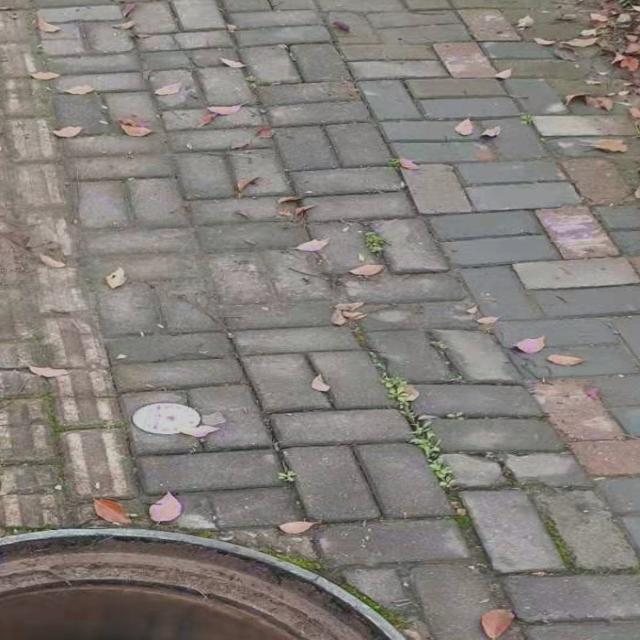lose: (0, 525, 457, 640)
